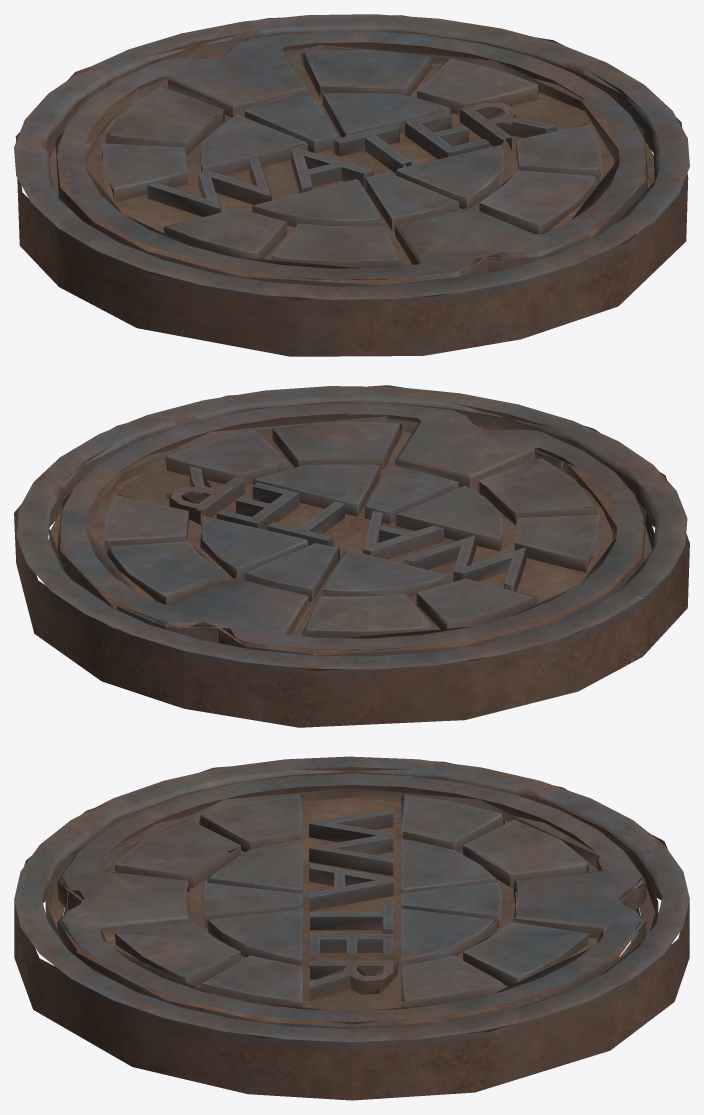
File: reference-manhole.glb
The picture shows the model from 3 angles, top to bottom: view 1: azimuth 30°, elevation 25°; view 2: azimuth 150°, elevation 25°; view 3: azimuth 270°, elevation 25°; orthographic projection.
Visible parts, largest first — view 1: water_manhole_cover; view 2: water_manhole_cover; view 3: water_manhole_cover.
Part boxes in pixels (x1,y1,x2,y2): water_manhole_cover: (14, 14, 689, 356); water_manhole_cover: (14, 385, 689, 727); water_manhole_cover: (14, 756, 689, 1100).
Size of the model in its own units: 0.6916 by 0.0681 by 0.6915.
1 material, 1 textured.
